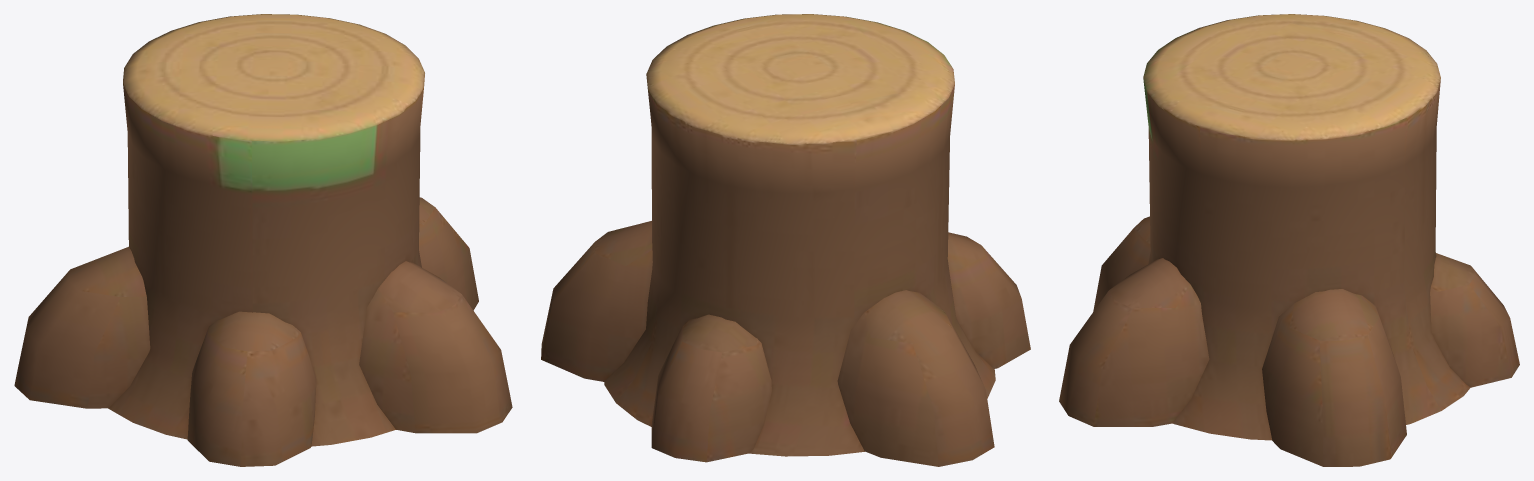
The model's file is stump.glb.
The picture shows the model from 3 angles, left to right: view 1: azimuth 30°, elevation 25°; view 2: azimuth 150°, elevation 25°; view 3: azimuth 270°, elevation 25°; orthographic projection. The views are drawn at different scales.
Visible parts, largest first — view 1: stump; view 2: stump; view 3: stump.
Boxes of the visible parts, x1=… form: stump: x1=14, y1=14, x2=512, y2=466; stump: x1=541, y1=14, x2=1030, y2=466; stump: x1=1059, y1=14, x2=1519, y2=466.
Bounding box in the file's own units: 0.6534 × 0.4319 × 0.6065.
4 materials, 4 textured.
